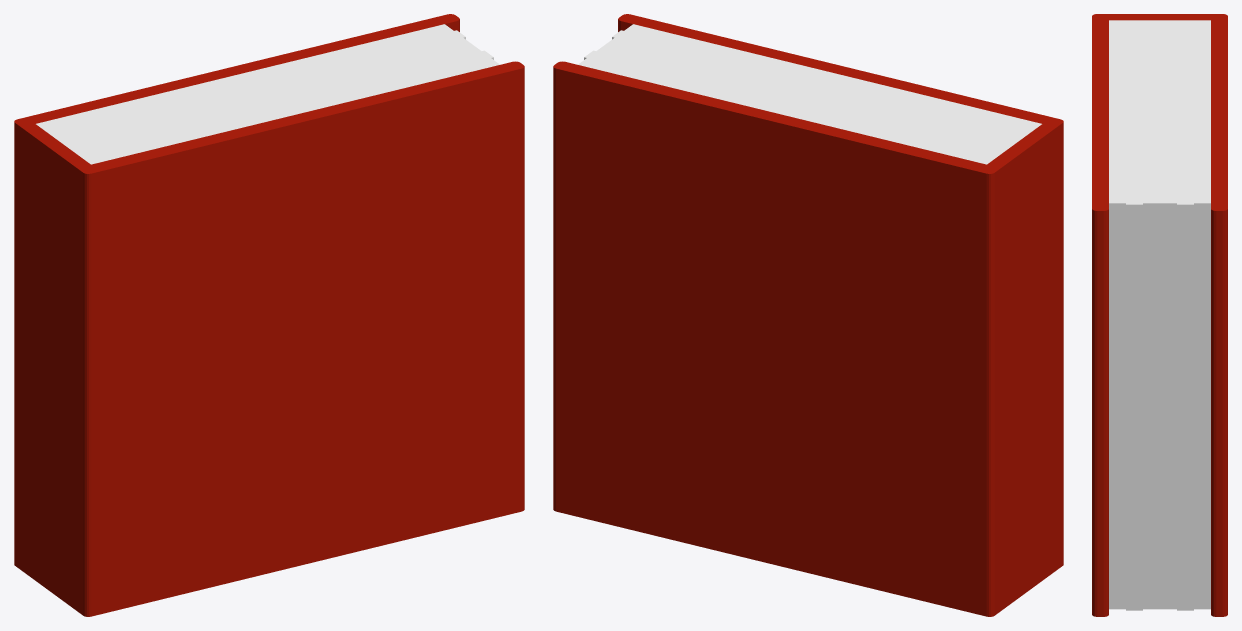
File: kniha.glb
3 views of the same model, side by side, from view 1: azimuth 30°, elevation 25°; view 2: azimuth 150°, elevation 25°; view 3: azimuth 270°, elevation 25° (orthographic). The views are drawn at different scales.
Visible parts, largest first — view 1: Cube; view 2: Cube; view 3: Cube.
Part boxes in pixels (left/top/right/bottom): Cube: left=14, top=14, right=524, bottom=616; Cube: left=553, top=14, right=1063, bottom=616; Cube: left=1092, top=14, right=1227, bottom=616.
Size of the model in its own units: 0.3295 by 0.3166 by 0.096.
